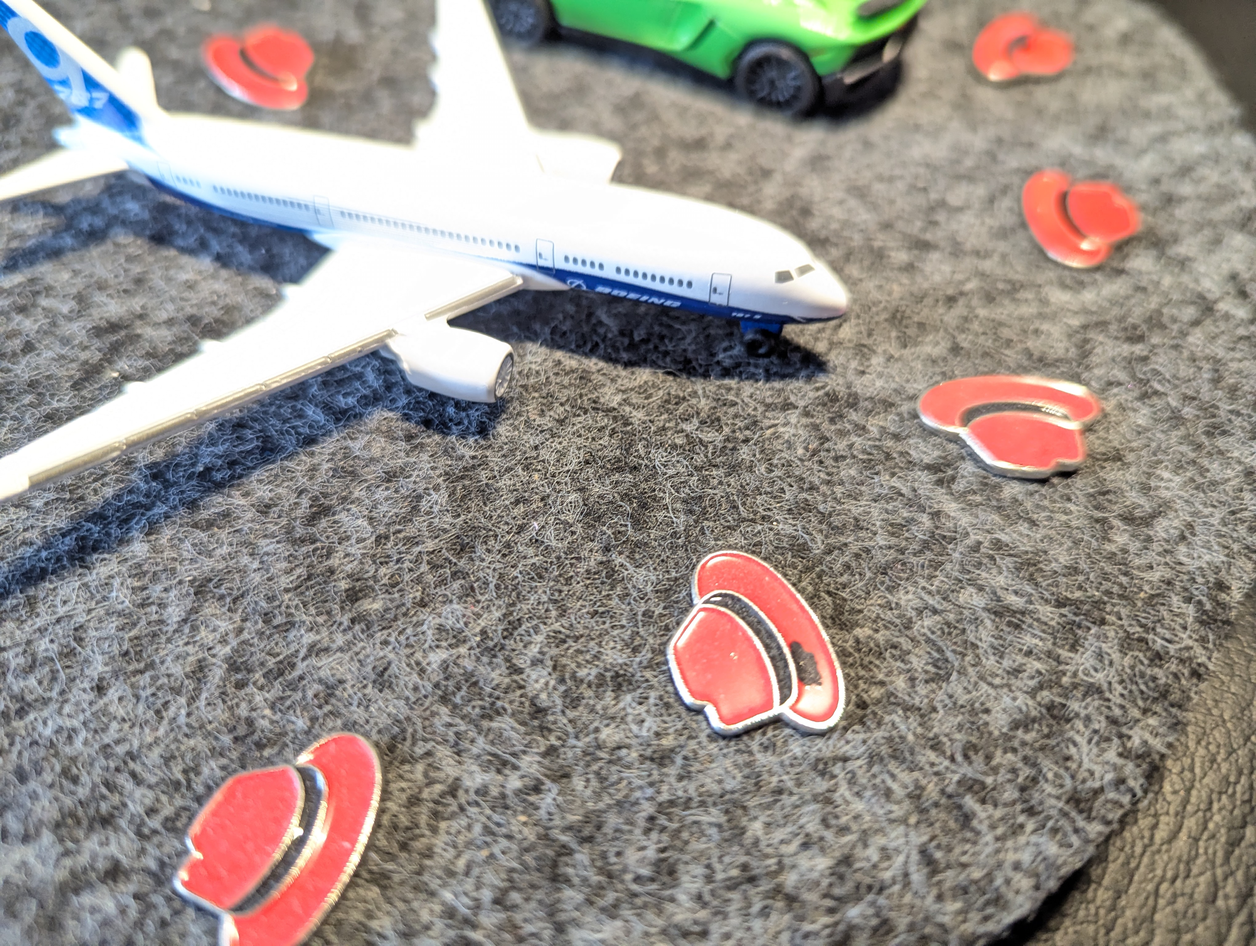Airplane: (0, 0, 896, 547)
Red-Hat: (150, 685, 437, 946), (648, 528, 877, 789), (896, 348, 1152, 525), (986, 144, 1170, 311), (187, 10, 328, 118)
Scratch: (771, 615, 833, 699)
